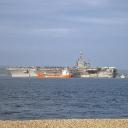Portanaves: (6, 51, 121, 79)
